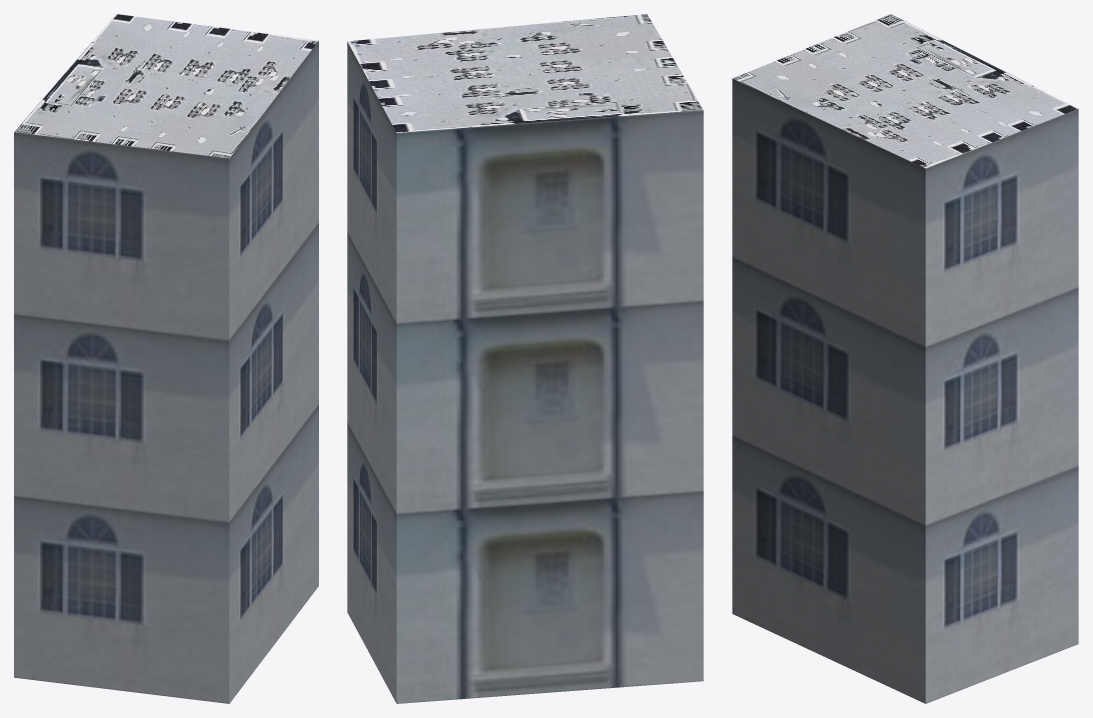
File: ResTex__1037.fbx
3 renders of one model, left to right at view 1: azimuth 30°, elevation 25°; view 2: azimuth 150°, elevation 25°; view 3: azimuth 270°, elevation 25°, orthographic. The views are drawn at different scales.
Parts seen in each view (by area): view 1: CityEngineMaterial_17_m, CityEngineMaterial_2_m; view 2: CityEngineMaterial_17_m, CityEngineMaterial_2_m; view 3: CityEngineMaterial_17_m, CityEngineMaterial_2_m.
Part boxes in pixels (left/top/right/bottom): CityEngineMaterial_17_m: left=14, top=41, right=318, bottom=703; CityEngineMaterial_2_m: left=14, top=14, right=318, bottom=158; CityEngineMaterial_17_m: left=347, top=42, right=703, bottom=703; CityEngineMaterial_2_m: left=347, top=14, right=703, bottom=132; CityEngineMaterial_17_m: left=732, top=78, right=1078, bottom=703; CityEngineMaterial_2_m: left=733, top=14, right=1077, bottom=168.
Size of the model in its own units: 5.57 by 9 by 5.27.
2 materials, 2 textured.
